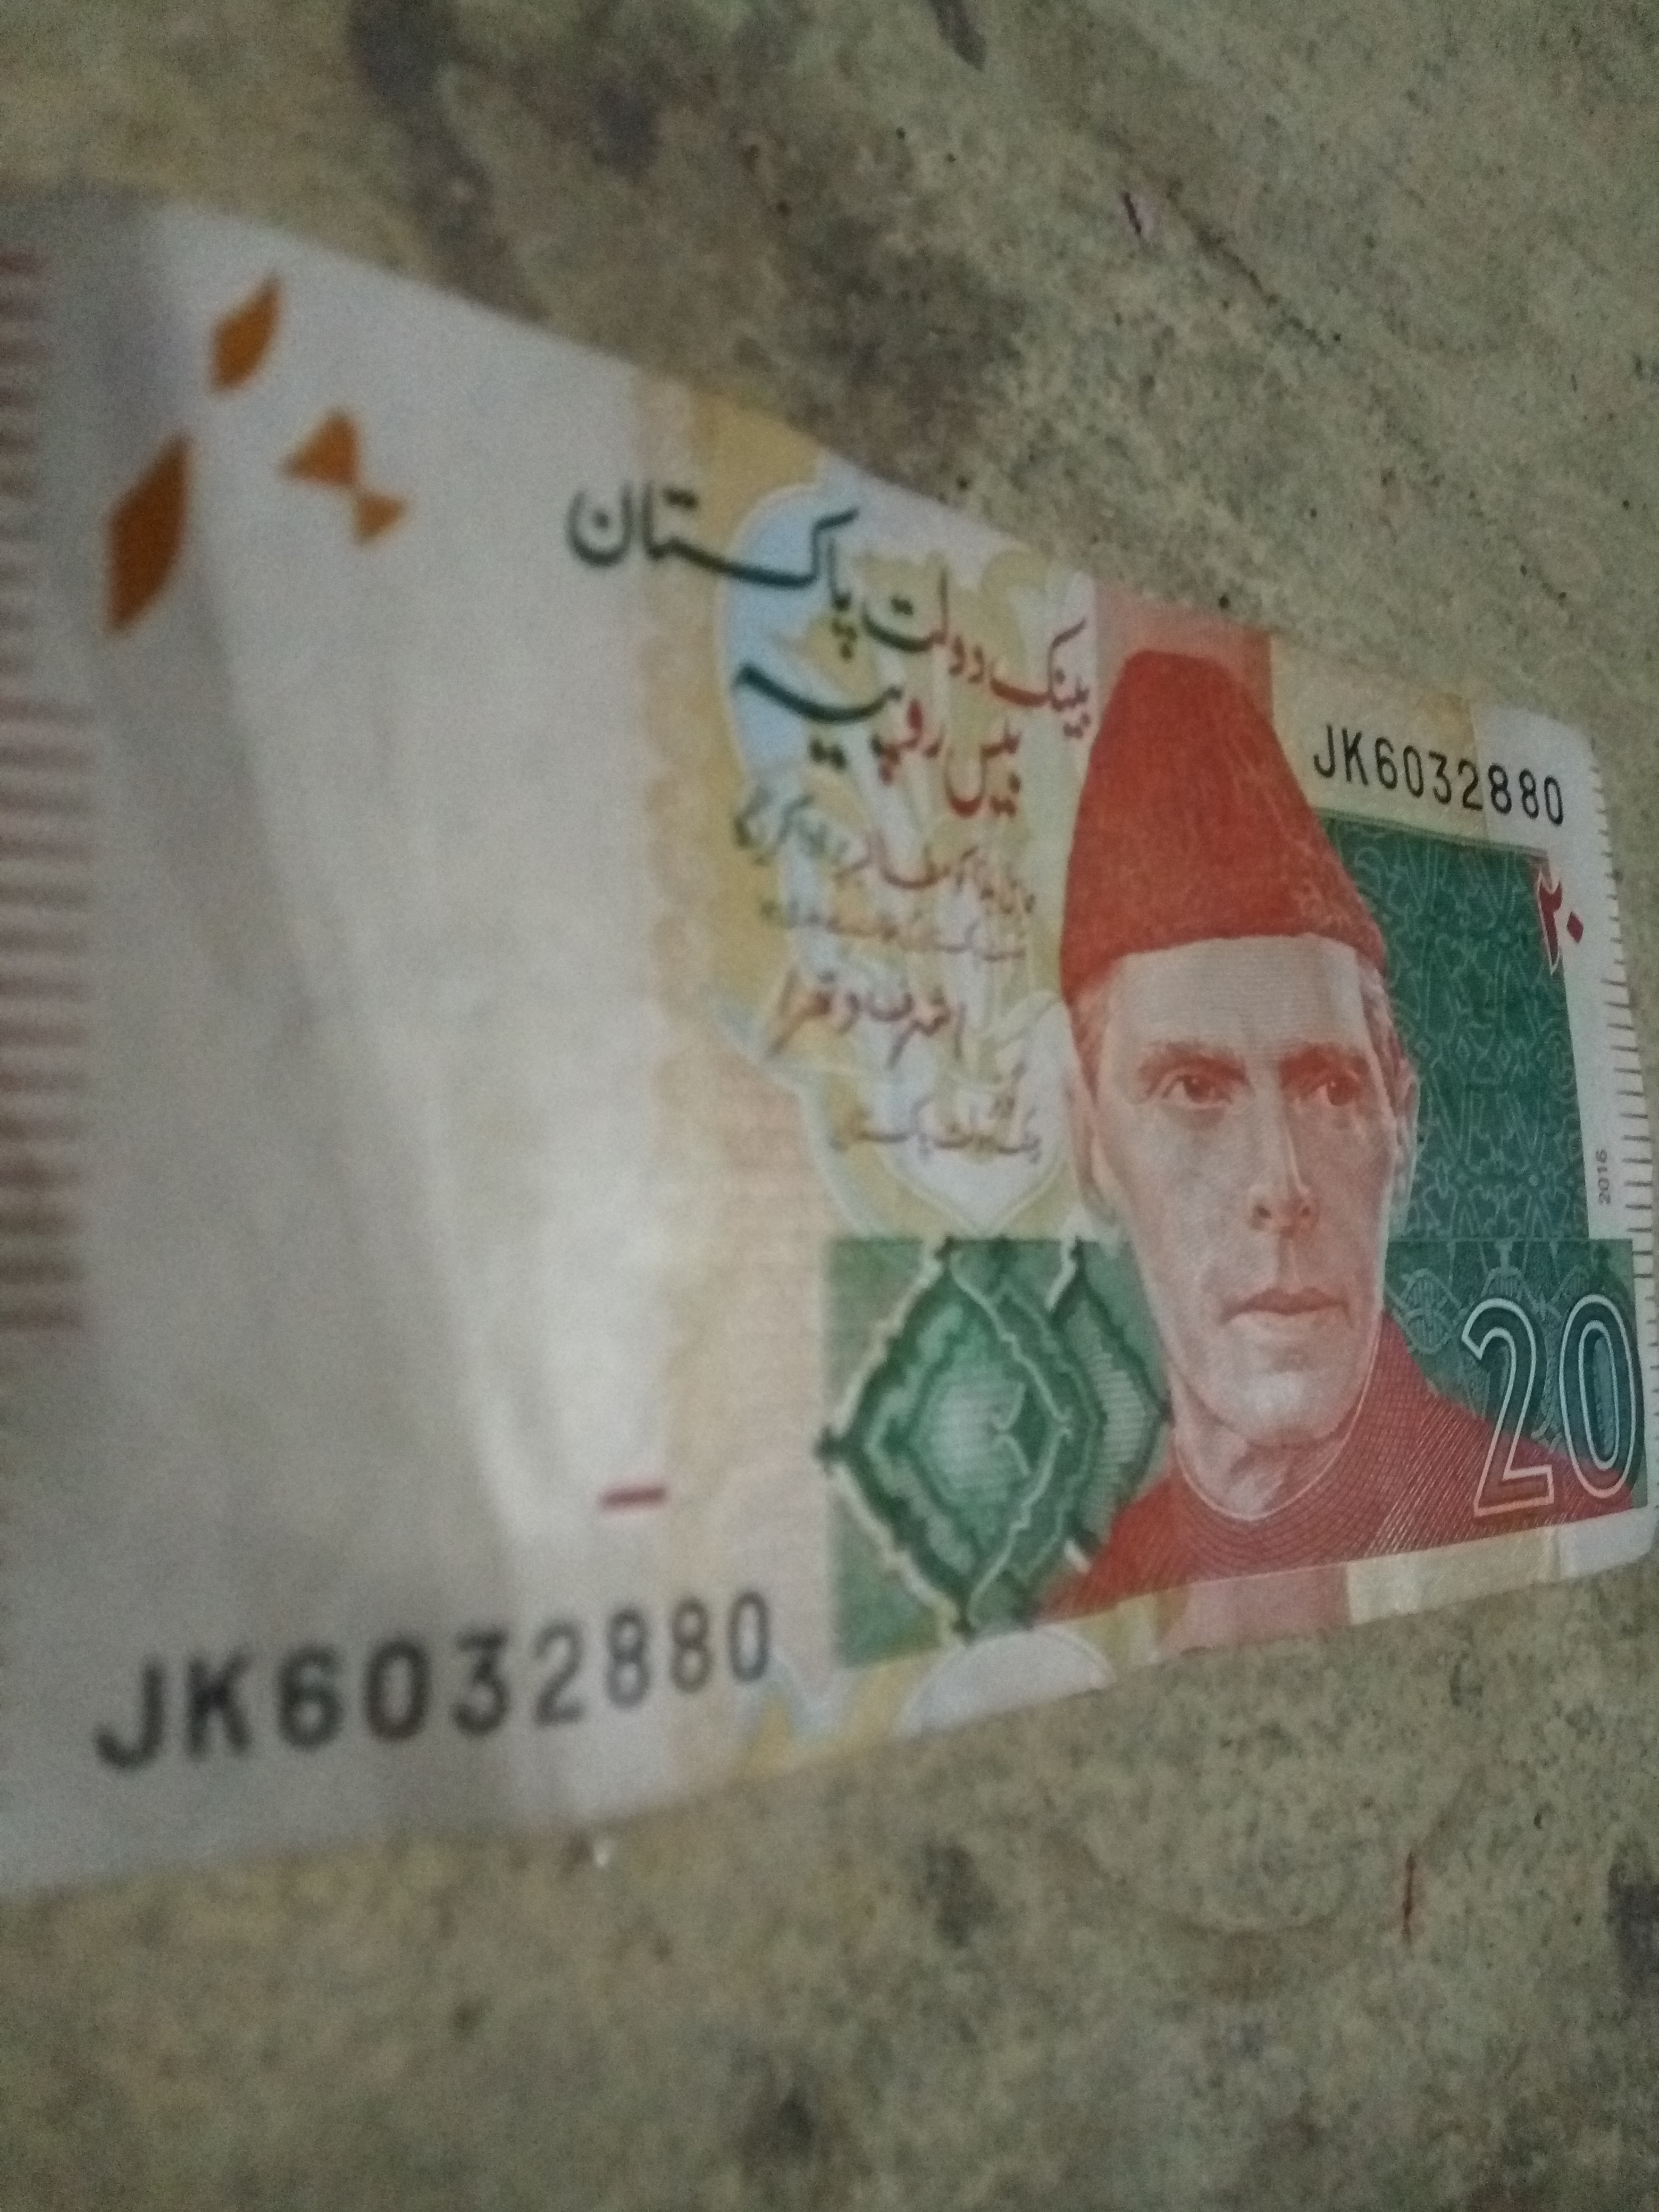20 rupee: (66, 117, 1629, 1911)
